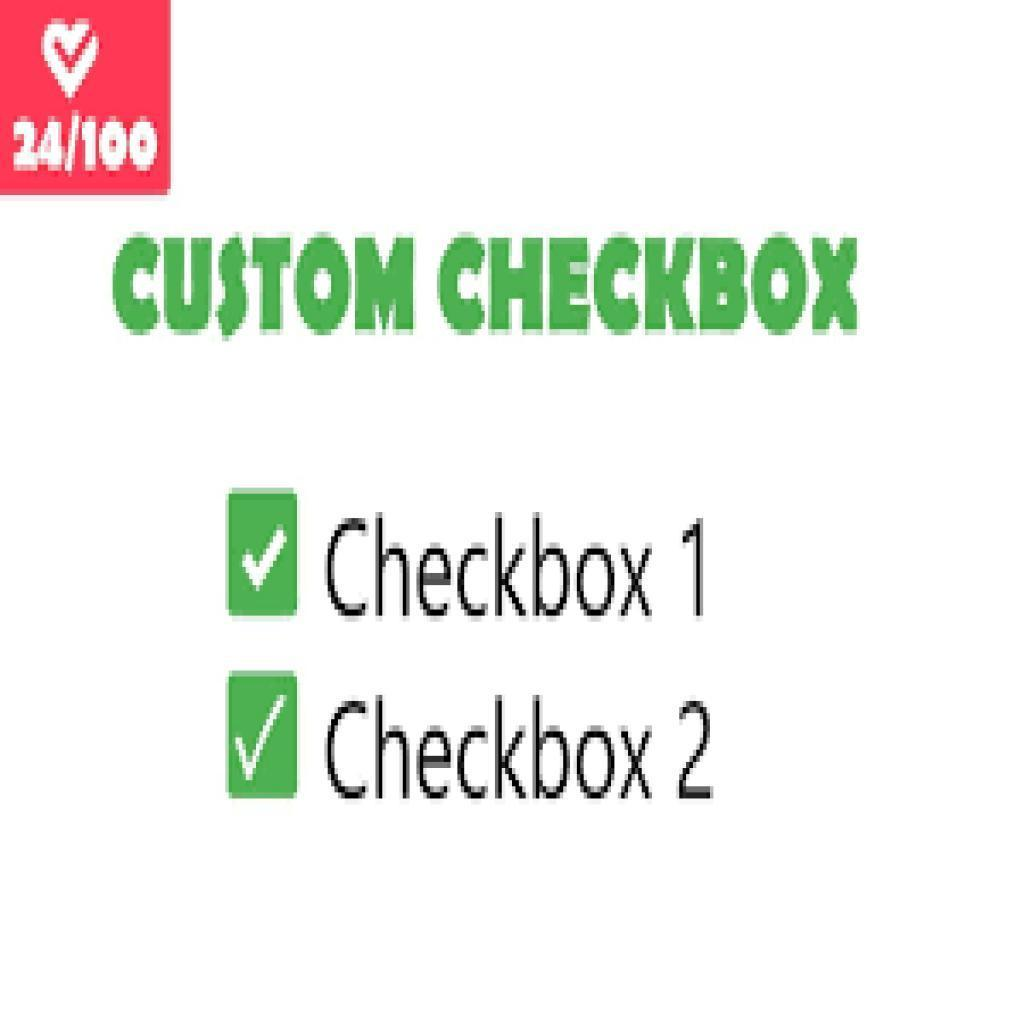checkbox: (229, 670, 300, 801), (229, 490, 299, 618)
label: (322, 691, 725, 811), (322, 508, 714, 631)
